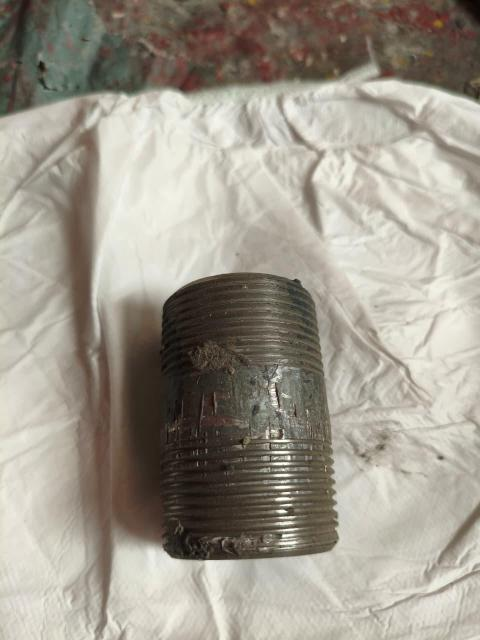Metal: (152, 272, 342, 558)
